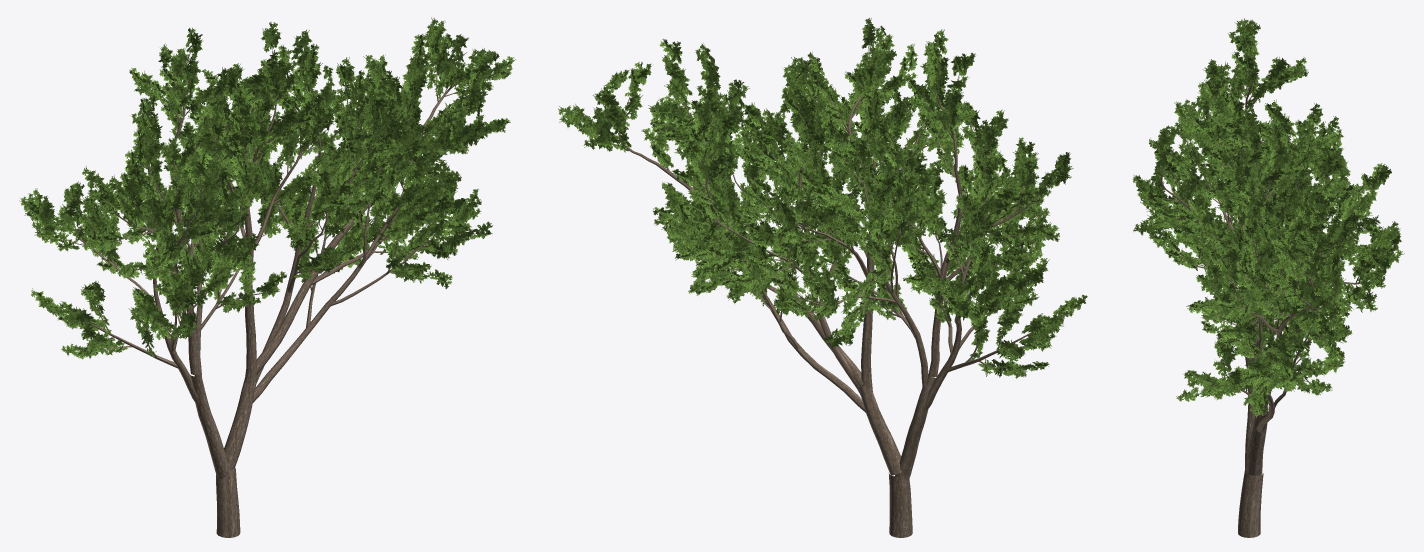
File: tree_vfork.glb
3 renders of one model, left to right at view 1: azimuth 30°, elevation 25°; view 2: azimuth 150°, elevation 25°; view 3: azimuth 270°, elevation 25°, orthographic. The views are drawn at different scales.
Visible parts, largest first — view 1: Leaves, Branches; view 2: Leaves, Branches; view 3: Leaves, Branches.
Part boxes in pixels (<box>): Leaves: <box>19,17,515,359</box>; Branches: <box>44,46,490,537</box>; Leaves: <box>558,17,1087,378</box>; Branches: <box>582,36,1073,537</box>; Leaves: <box>1132,18,1404,417</box>; Branches: <box>1148,45,1380,537</box>.
Size of the model in its own units: 16.11 by 16 by 8.3.
Materials: 2 (2 with a texture image).
